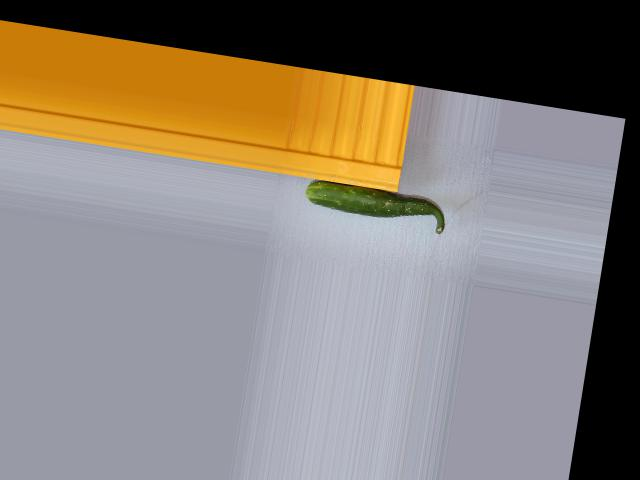cucumber: (303, 177, 449, 235)
